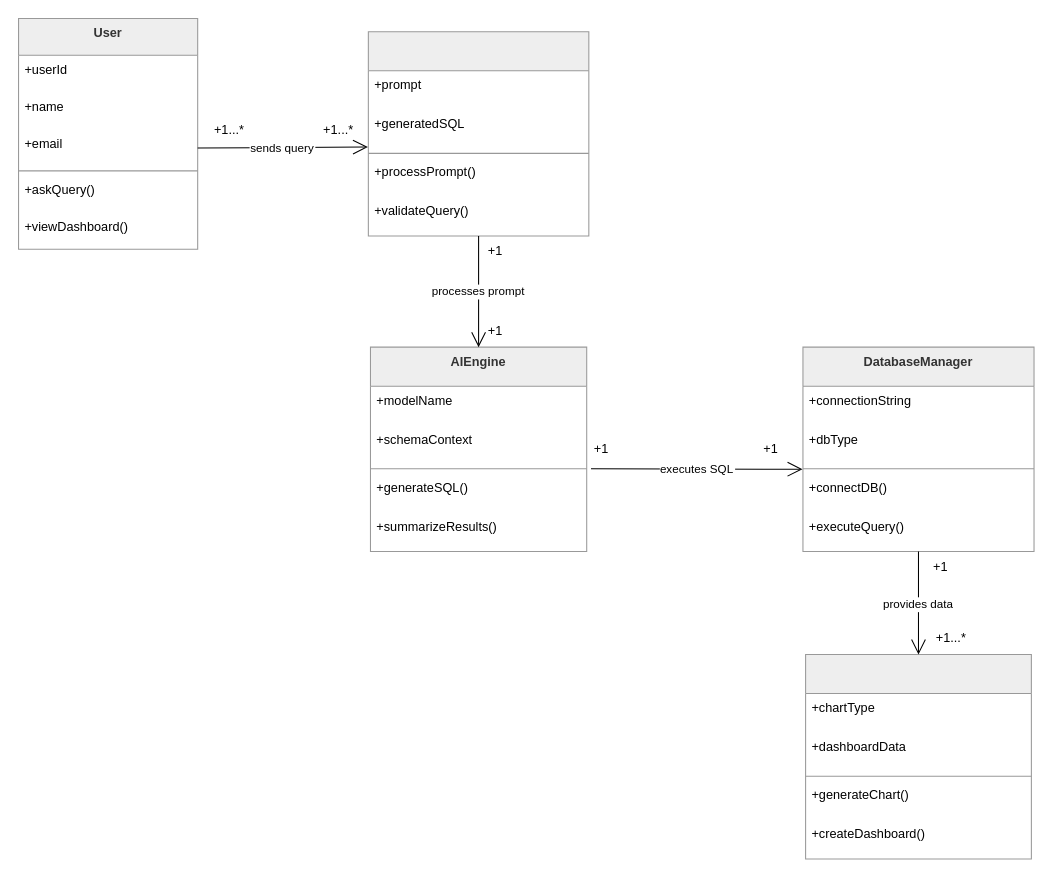
This 1053x881 diagram has some shape labels left out. The box of each missing label's shape, as (x1, y1, x2, y2) in pixels:
QueryProcessor: (367, 31, 589, 236)
Visualization: (805, 653, 1031, 859)
